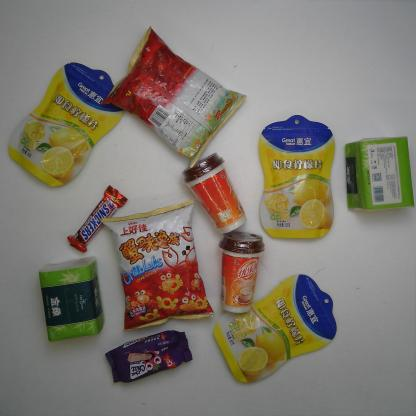Chocolate: (65, 183, 127, 253)
Dessert: (104, 328, 195, 385)
Dried Fruit: (6, 60, 125, 188), (212, 271, 340, 384), (256, 112, 337, 241)
Instant Drink: (179, 150, 248, 238), (215, 229, 267, 314)
Puffed Food: (101, 26, 247, 171), (100, 196, 215, 333)
Tissue: (38, 256, 106, 342), (343, 135, 414, 212)
